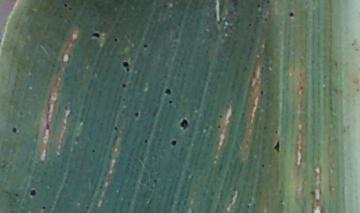tarspot: (120, 59, 132, 73), (272, 138, 282, 153), (179, 118, 189, 130), (163, 86, 173, 96), (90, 31, 101, 39), (29, 188, 37, 197), (169, 139, 177, 148), (216, 120, 223, 130), (166, 98, 174, 106), (10, 125, 17, 134), (288, 10, 295, 19), (217, 112, 224, 121), (133, 111, 140, 119), (112, 124, 119, 132), (142, 42, 149, 49), (120, 81, 127, 88), (263, 15, 269, 23), (62, 3, 69, 9), (112, 37, 119, 43), (151, 177, 157, 184), (259, 88, 264, 96), (260, 161, 265, 169), (90, 147, 96, 153), (41, 204, 47, 210), (246, 21, 252, 27), (143, 137, 148, 144), (13, 192, 19, 197), (255, 3, 260, 9), (265, 1, 271, 5)
